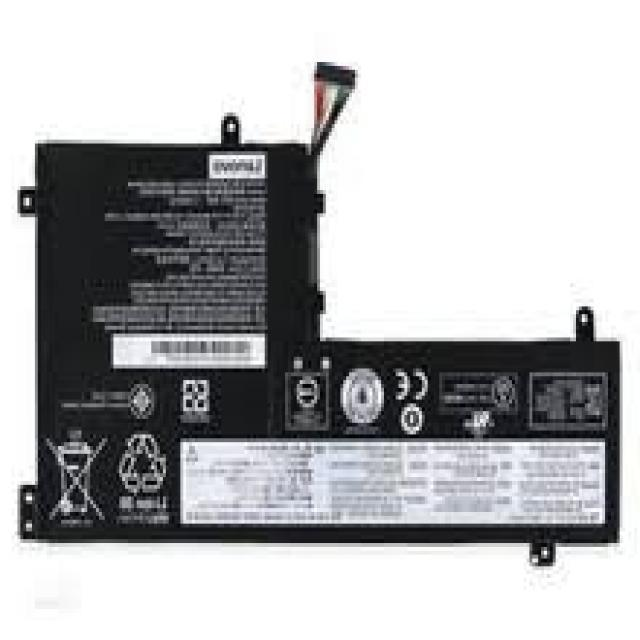battery: (16, 59, 622, 570)
